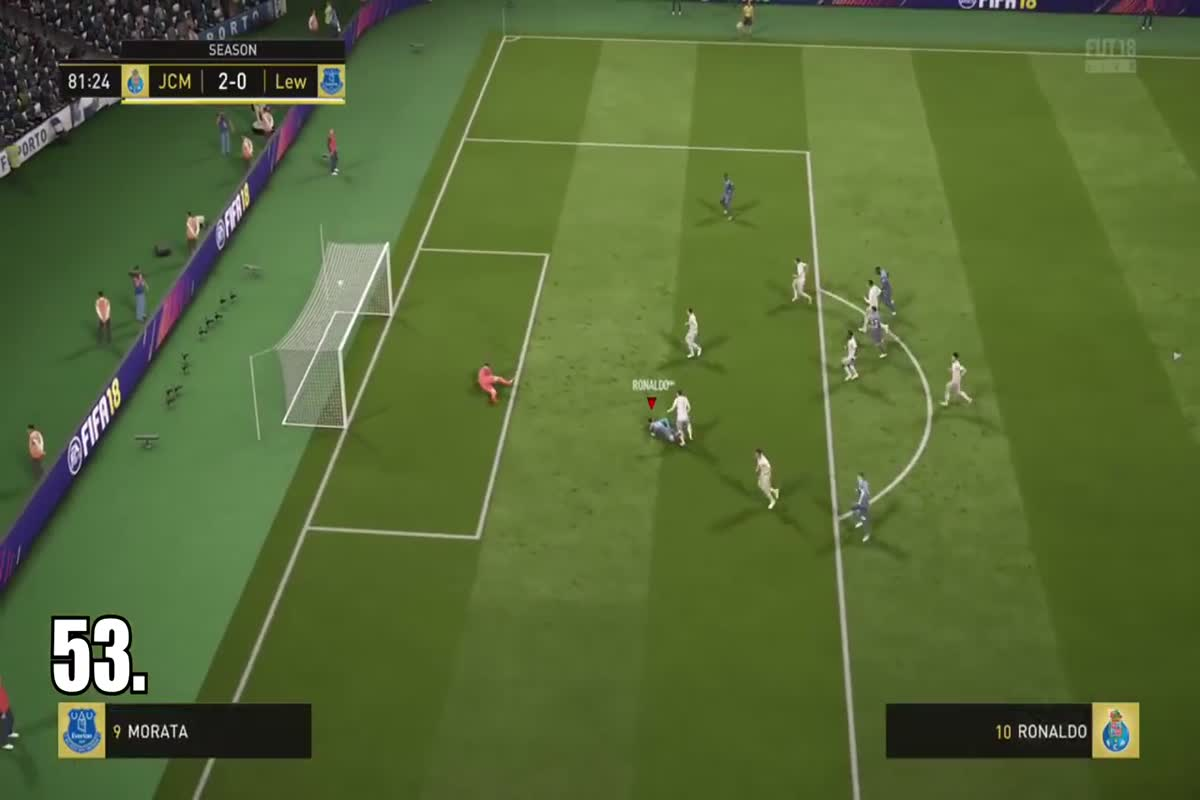ball: (331, 274, 354, 289)
